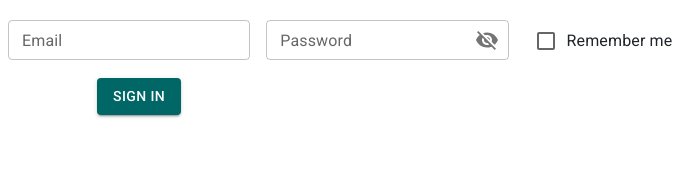
Test: Test input validations at login page › Password should be >8 chars, contain atleast one letter and one digit
Type "123" into the password field labelled "Password".
click(362, 40); type("123")  # box [266, 20, 459, 60]
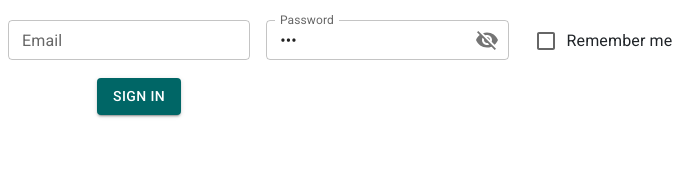
Click the button "SIGN IN".
click(139, 96)  # box [97, 78, 181, 114]
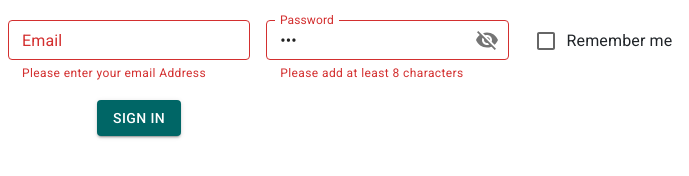
Result: the text "Please add at least 8 characters" is shown at [280, 64, 495, 84]
# case 2: doesnot contain letters
Type "12345678" into the password field labelled "Password".
click(362, 40); type("12345678")  # box [266, 20, 459, 60]
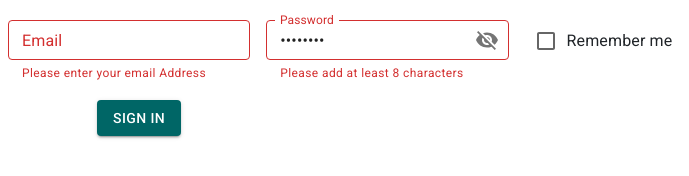
Click the button "SIGN IN".
click(139, 118)  # box [97, 100, 181, 136]
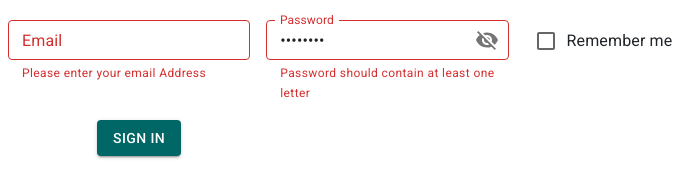
Result: the text "Password should contain at least one letter" is shown at [280, 64, 495, 104]
# case 3: doesnot contain digits
Type "abcopqwensd" into the password field labelled "Password".
click(362, 40); type("abcopqwensd")  # box [266, 20, 459, 60]
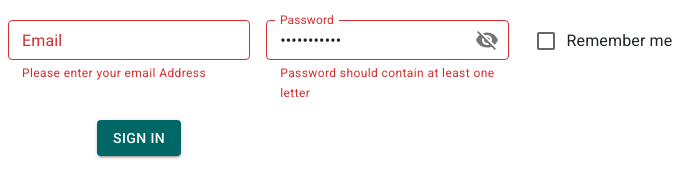
Click the button "SIGN IN".
click(139, 138)  # box [97, 120, 181, 156]
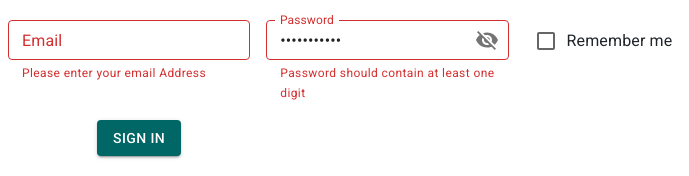
Result: the text "Password should contain at least one digit" is shown at [280, 64, 495, 104]
